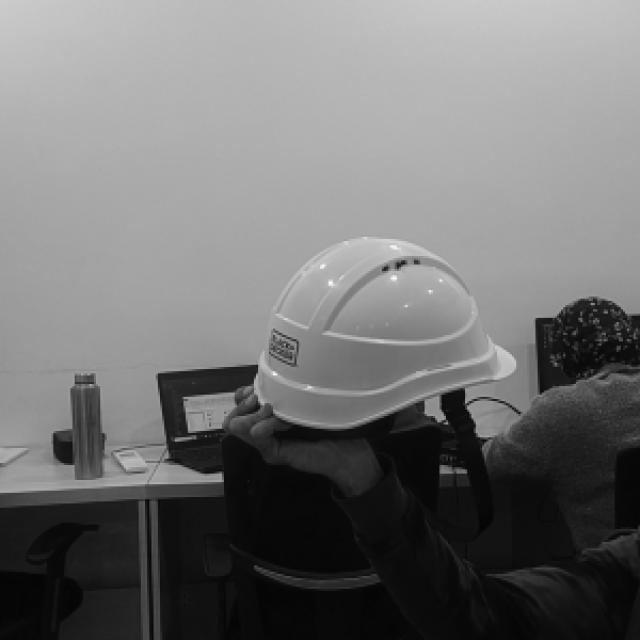safety_helmet: (255, 234, 517, 428)
